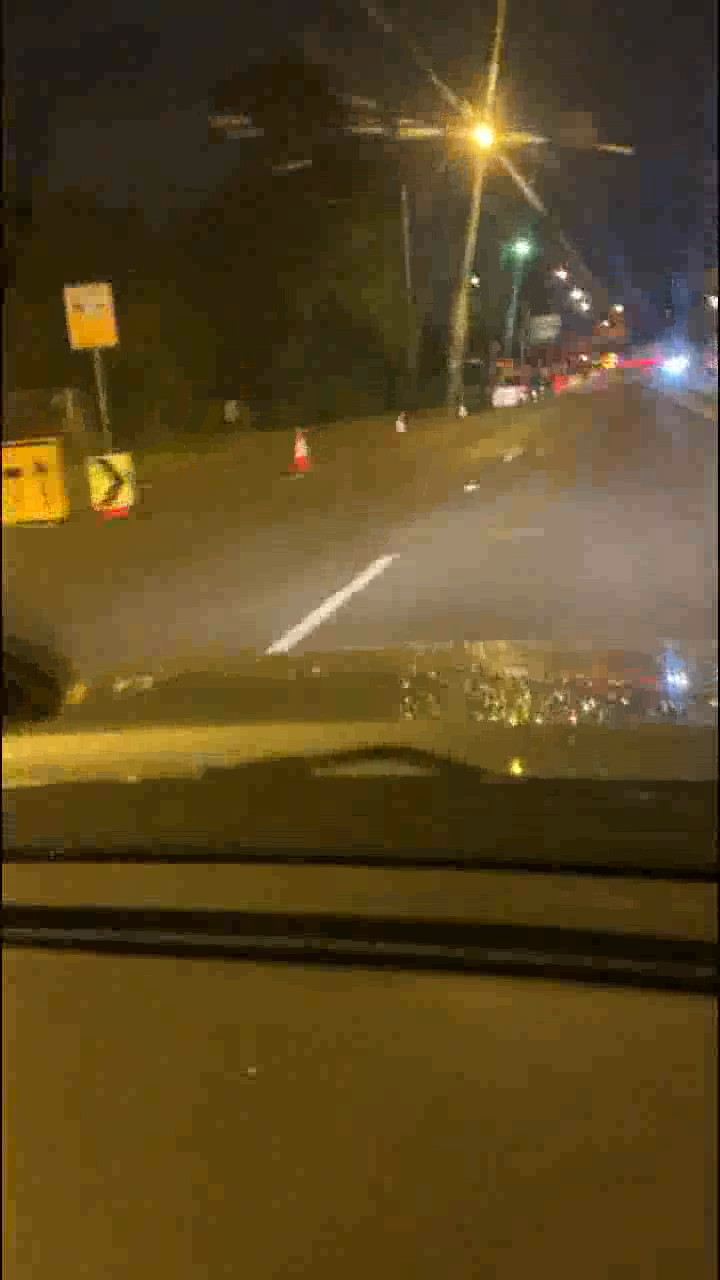road cone: (289, 429, 316, 473)
road works sign board: (1, 449, 56, 517), (83, 452, 139, 509)
